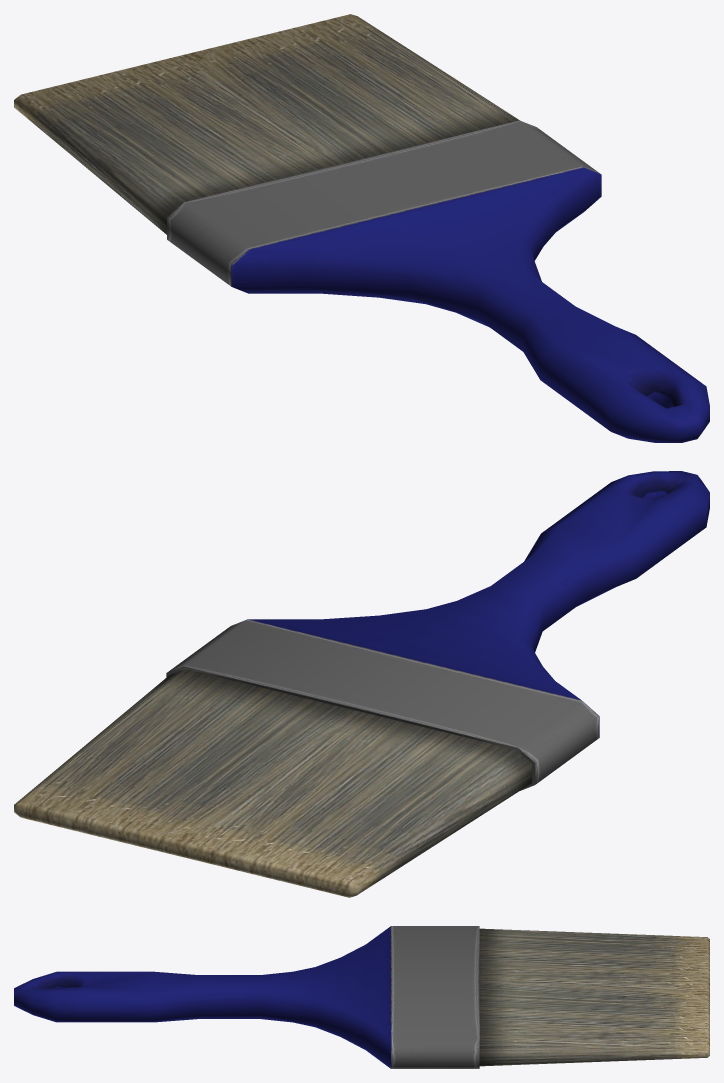
Rendered from paintbrush.dae.
3 views of the same model, one above another, from view 1: azimuth 30°, elevation 25°; view 2: azimuth 150°, elevation 25°; view 3: azimuth 270°, elevation 25° (orthographic). The views are drawn at different scales.
Parts seen in each view (by area): view 1: polySurface10; view 2: polySurface10; view 3: polySurface10.
Boxes of the visible parts, x1,y1,x2,y2 form: polySurface10: [14, 14, 709, 442]; polySurface10: [14, 471, 709, 897]; polySurface10: [14, 926, 709, 1068].
Bounding box in the file's own units: 0.1525 × 0.0174 × 0.3619.
1 material, 1 textured.
